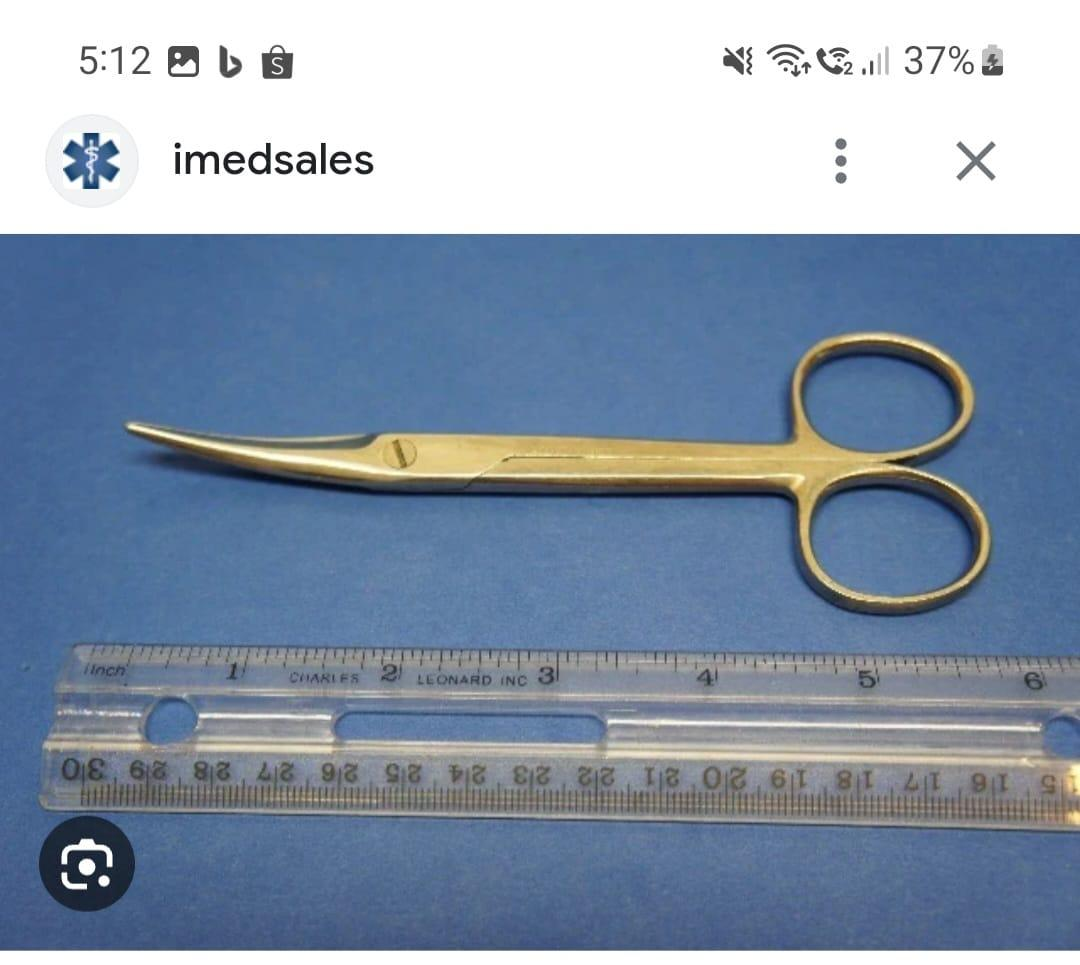Curved Mayo: (126, 299, 1004, 617)
